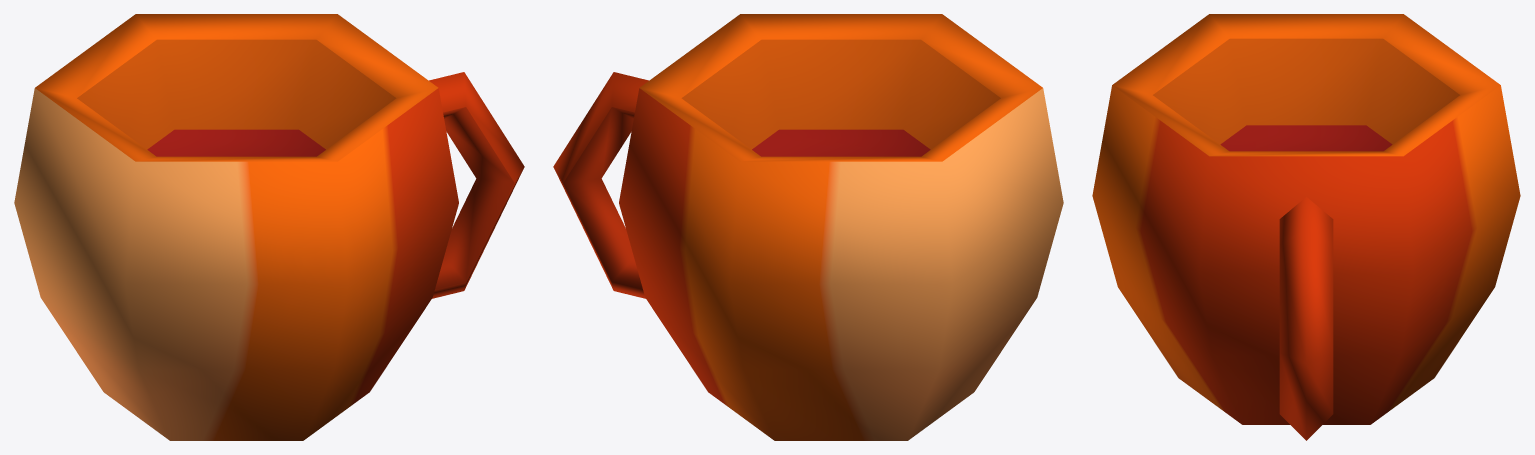
Rendered from CanecaLaranja.fbx.
The picture shows the model from 3 angles, left to right: view 1: azimuth 30°, elevation 25°; view 2: azimuth 150°, elevation 25°; view 3: azimuth 270°, elevation 25°; orthographic projection. The views are drawn at different scales.
Visible parts, largest first — view 1: CanecaLaranja; view 2: CanecaLaranja; view 3: CanecaLaranja.
Boxes of the visible parts, left/top/right/bottom form: CanecaLaranja: left=14, top=14, right=524, bottom=440; CanecaLaranja: left=553, top=14, right=1063, bottom=440; CanecaLaranja: left=1092, top=14, right=1520, bottom=440.
Bounding box in the file's own units: 32.14 × 20.55 × 27.22.
